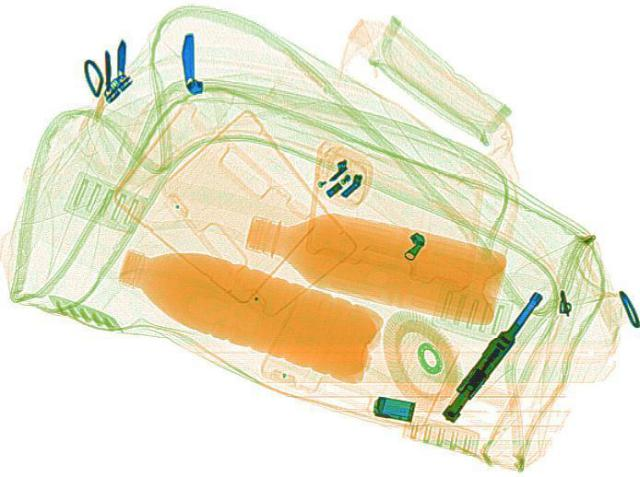Gun: (436, 285, 548, 419)
